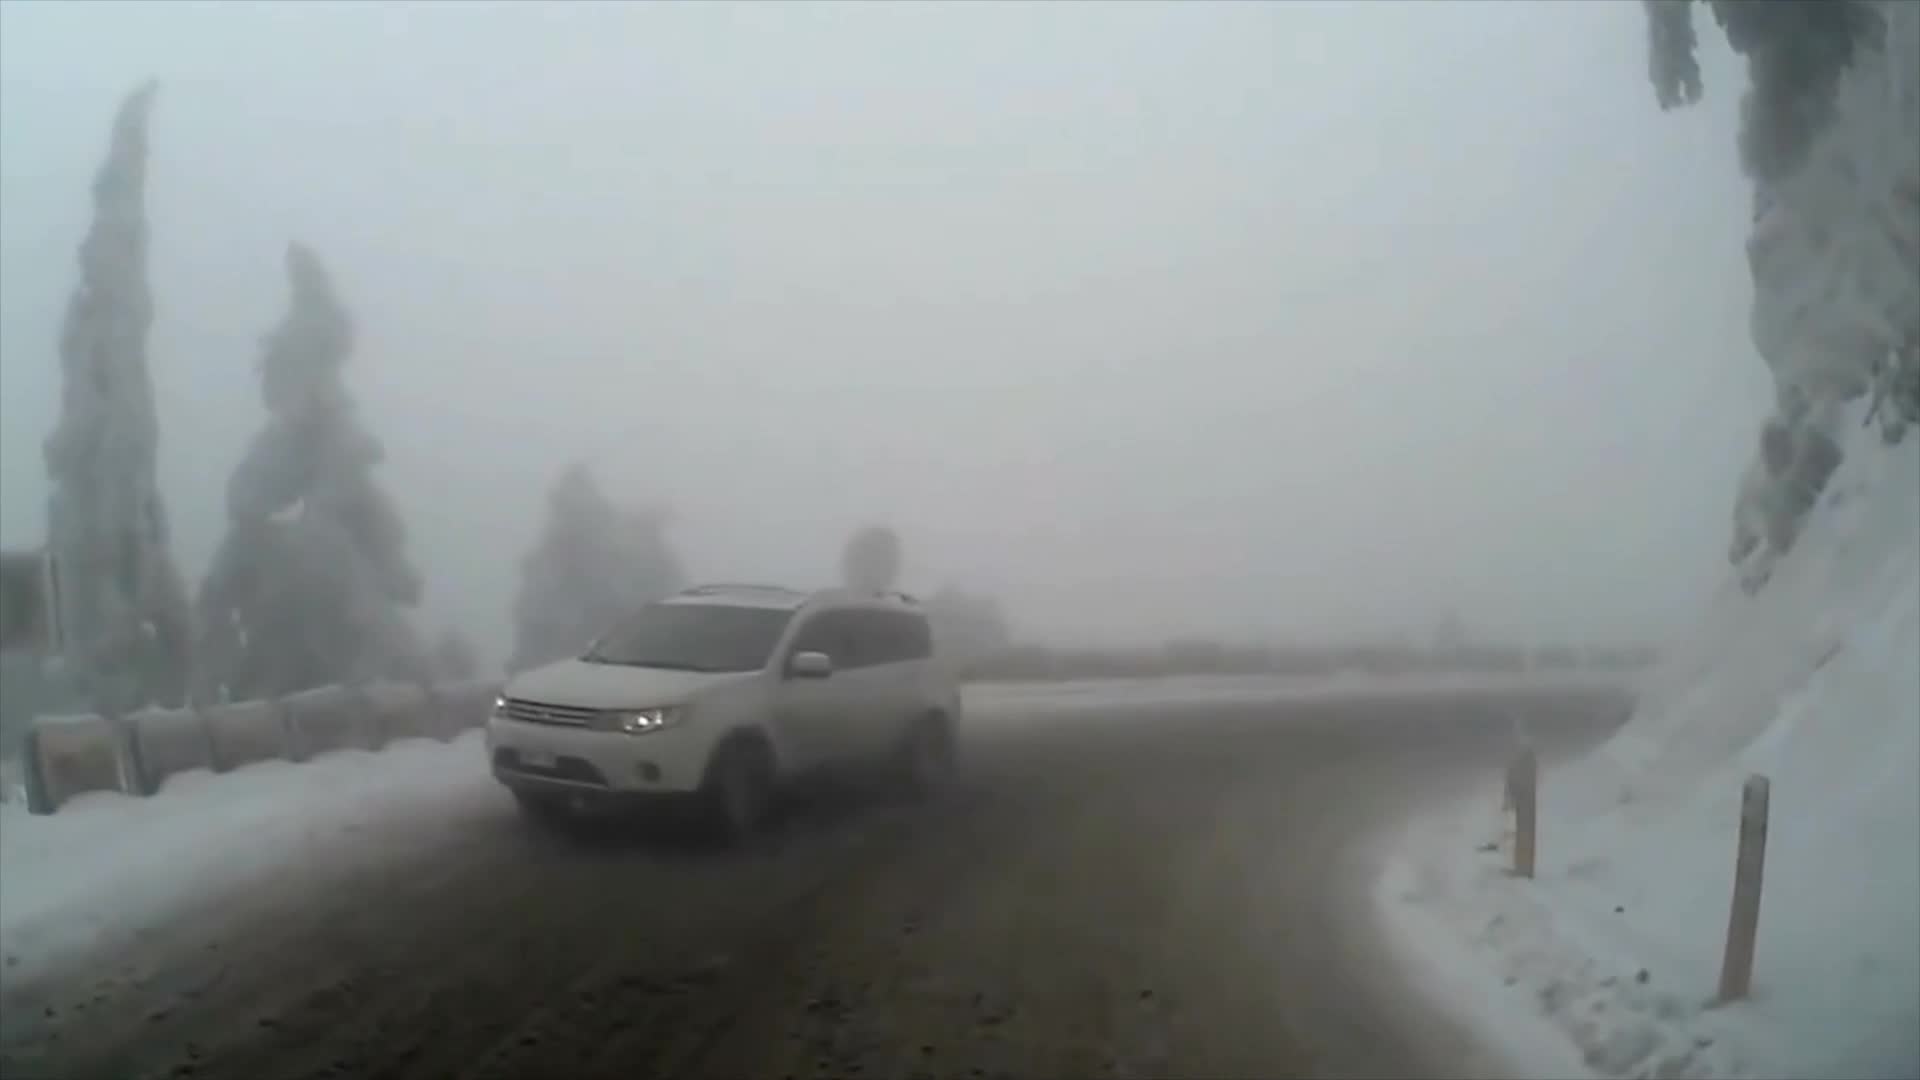vehicle: (480, 582, 963, 851)
